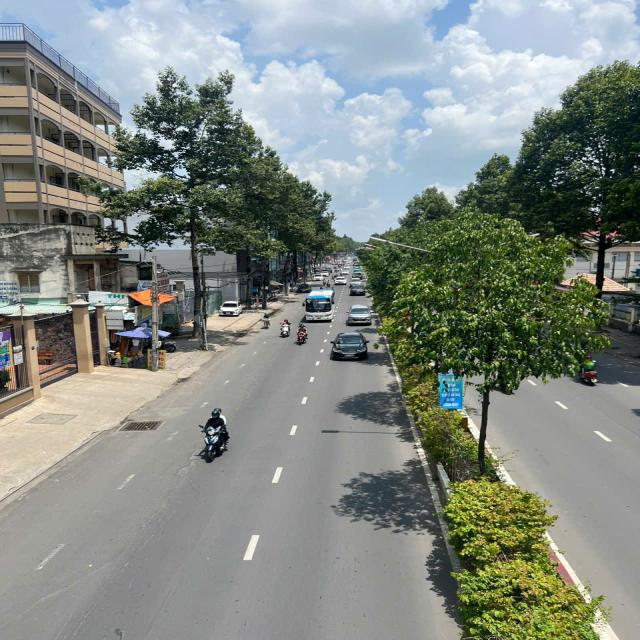car: (329, 329, 371, 362), (302, 288, 336, 321), (345, 304, 373, 326), (216, 298, 244, 317), (349, 283, 367, 296), (296, 282, 312, 293), (334, 274, 348, 286), (311, 272, 326, 282)
motobyte: (198, 404, 235, 462), (297, 322, 309, 347), (279, 318, 293, 338), (326, 278, 333, 288), (322, 278, 327, 286)
